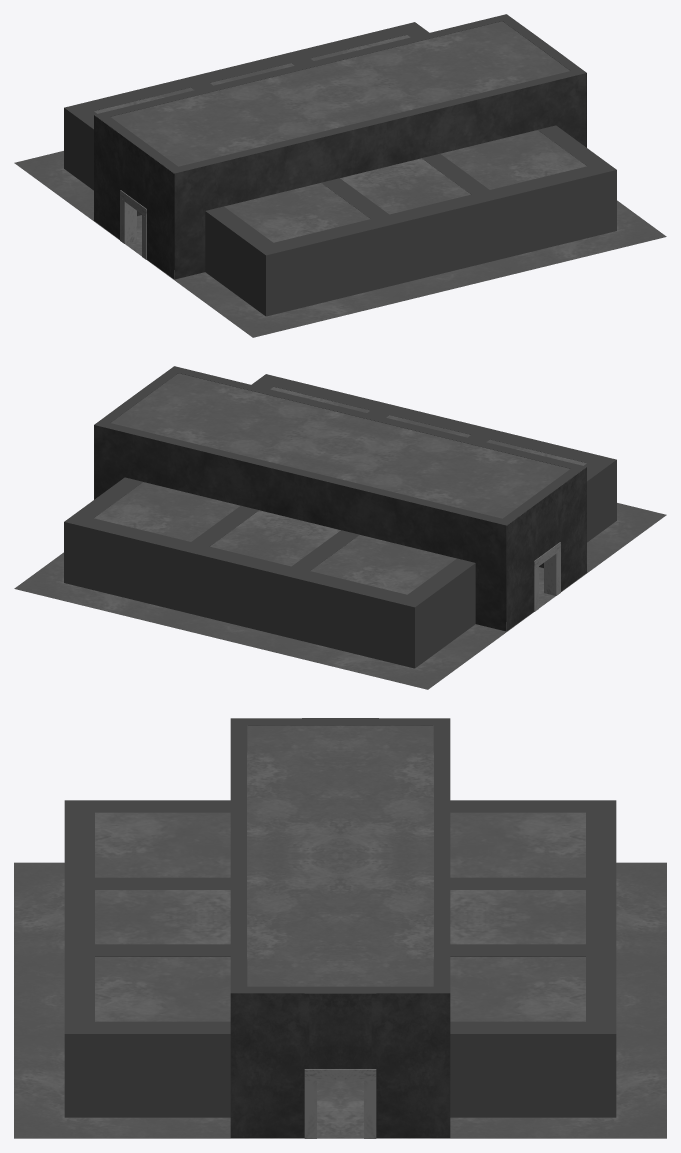
The model's file is Room_Dungeon_2.fbx.
3 renders of one model, top to bottom at view 1: azimuth 30°, elevation 25°; view 2: azimuth 150°, elevation 25°; view 3: azimuth 270°, elevation 25°, orthographic. The views are drawn at different scales.
Parts seen in each view (by area): view 1: Room_Exit_4_V3; view 2: Room_Exit_4_V3; view 3: Room_Exit_4_V3.
Part boxes in pixels (left/top/right/bottom): Room_Exit_4_V3: left=14, top=14, right=666, bottom=337; Room_Exit_4_V3: left=14, top=366, right=666, bottom=689; Room_Exit_4_V3: left=14, top=718, right=666, bottom=1138.
Size of the model in its own units: 8012 by 1958 by 8000.
